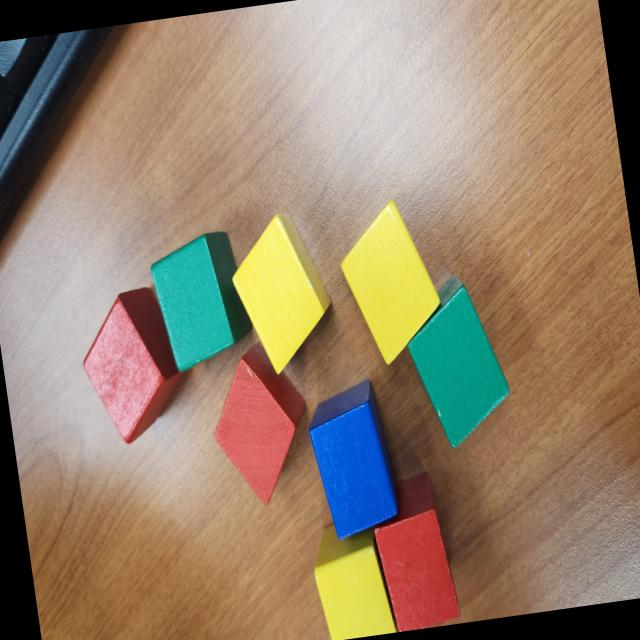blue: (302, 376, 406, 542)
green: (398, 270, 520, 454), (146, 228, 257, 374)
red: (72, 282, 194, 451), (202, 337, 319, 512), (366, 470, 462, 634)
yellow: (332, 193, 450, 370), (224, 210, 341, 380), (307, 515, 398, 640)
